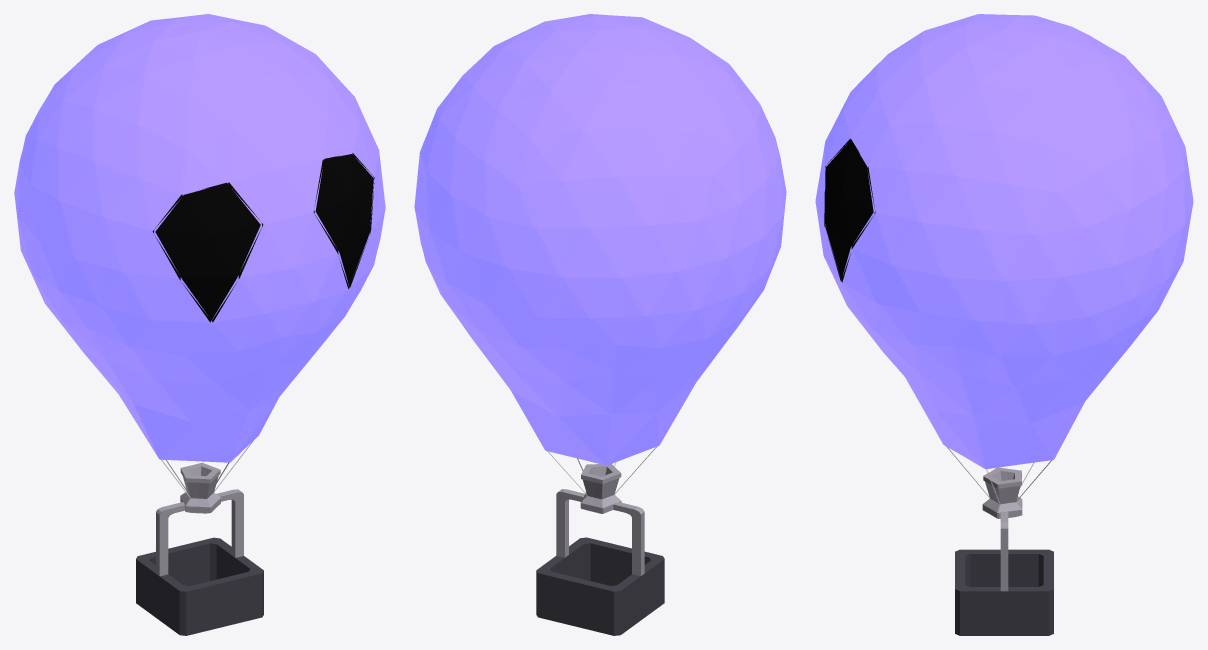
File: Hot Air Balloon - Low Poly.fbx
3 renders of one model, left to right at view 1: azimuth 30°, elevation 25°; view 2: azimuth 150°, elevation 25°; view 3: azimuth 270°, elevation 25°, orthographic.
Visible parts, largest first — view 1: Cube; view 2: Cube; view 3: Cube.
Boxes of the visible parts, left/top/right/bottom form: Cube: left=14, top=14, right=385, bottom=635; Cube: left=414, top=14, right=786, bottom=635; Cube: left=815, top=14, right=1193, bottom=635.
Bounding box in the file's own units: 766 × 1308 × 766.
